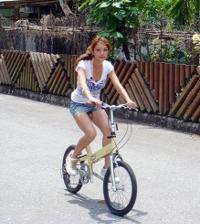person: (69, 37, 136, 185)
